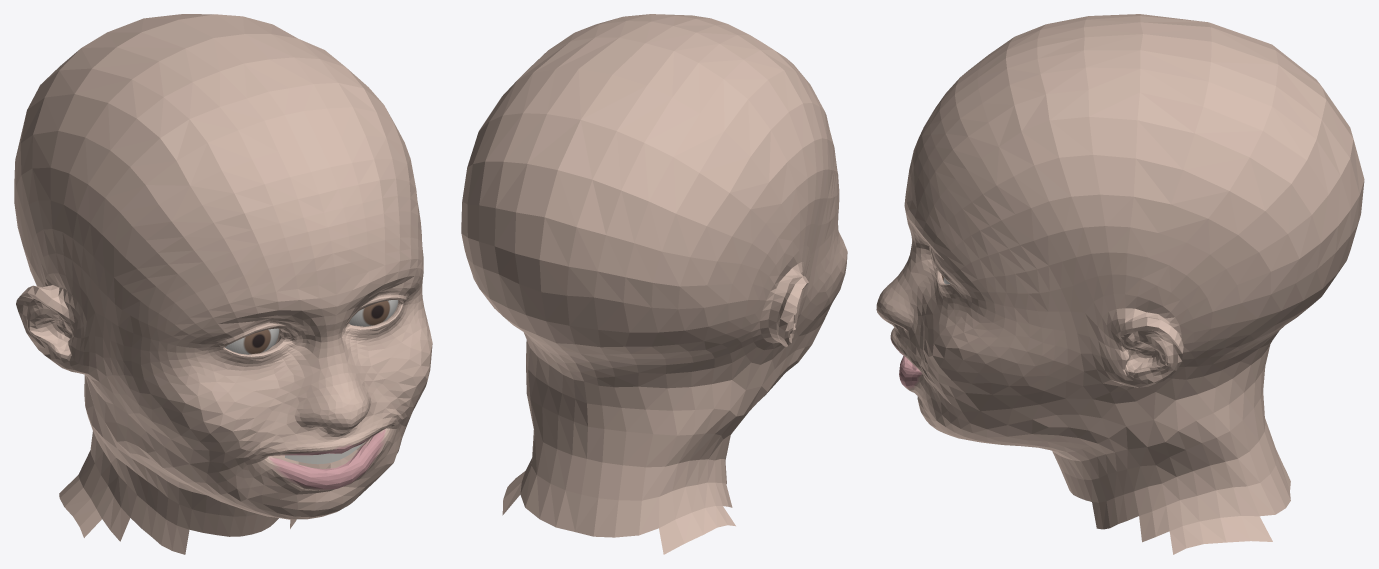
The model's file is karma_face_MH_smile_AF.glb.
The picture shows the model from 3 angles, left to right: view 1: azimuth 30°, elevation 25°; view 2: azimuth 150°, elevation 25°; view 3: azimuth 270°, elevation 25°; orthographic projection. The views are drawn at different scales.
Parts seen in each view (by area): view 1: head; view 2: head; view 3: head.
Part boxes in pixels (<box>): head: <box>14,14,432,554</box>; head: <box>461,14,847,554</box>; head: <box>876,14,1364,554</box>.
Size of the model in its own units: 3.03 by 3.91 by 3.68.
